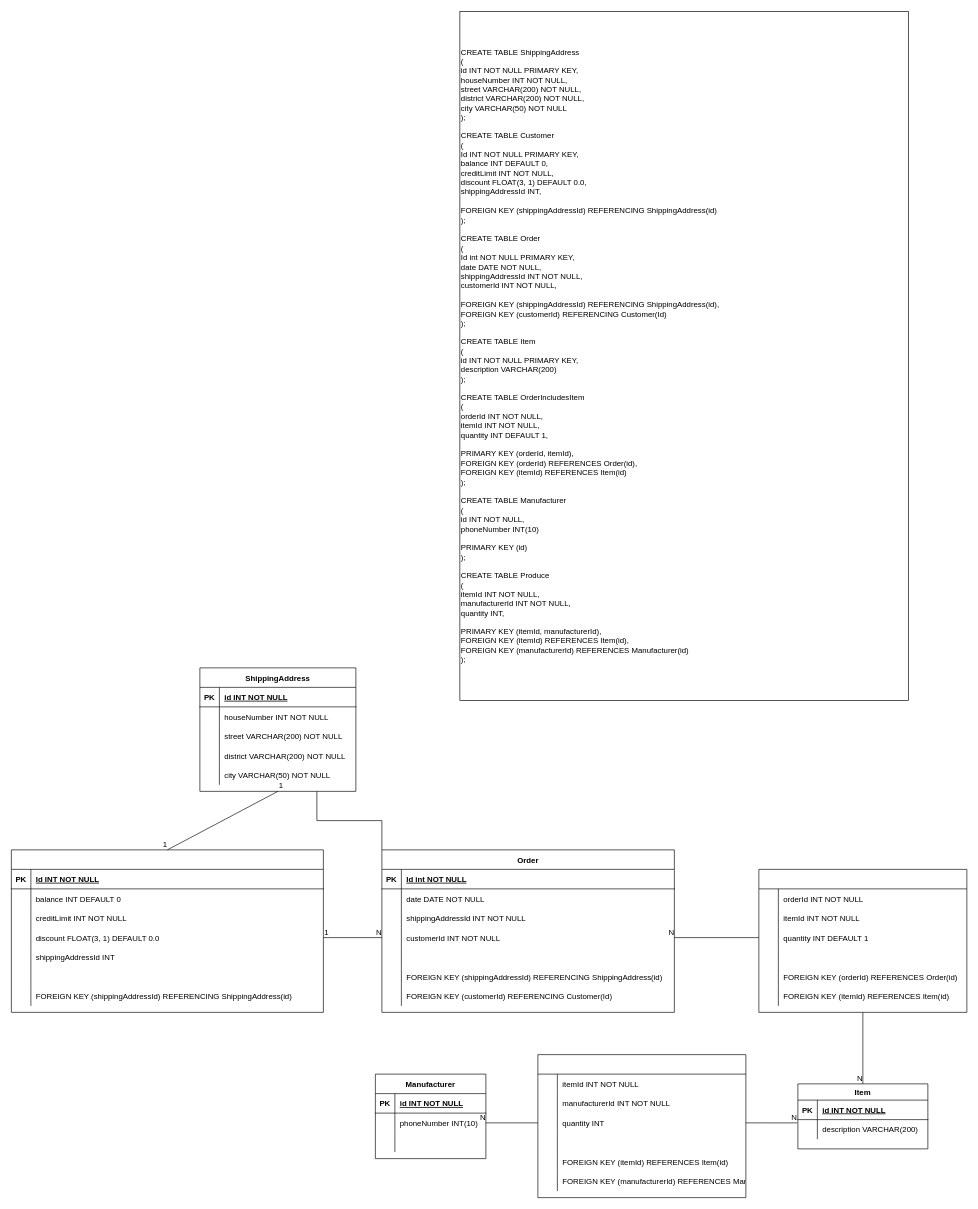
The diagram is 978 pixels wide and 1209 high, and some of its shapes have lost their labels. Here are the shapes that lost their labels. From the top down, the box of each, then its label:
(11, 849, 323, 1012): Customer
(758, 869, 967, 1012): OrderIncludesItem
(537, 1054, 746, 1198): Produce
